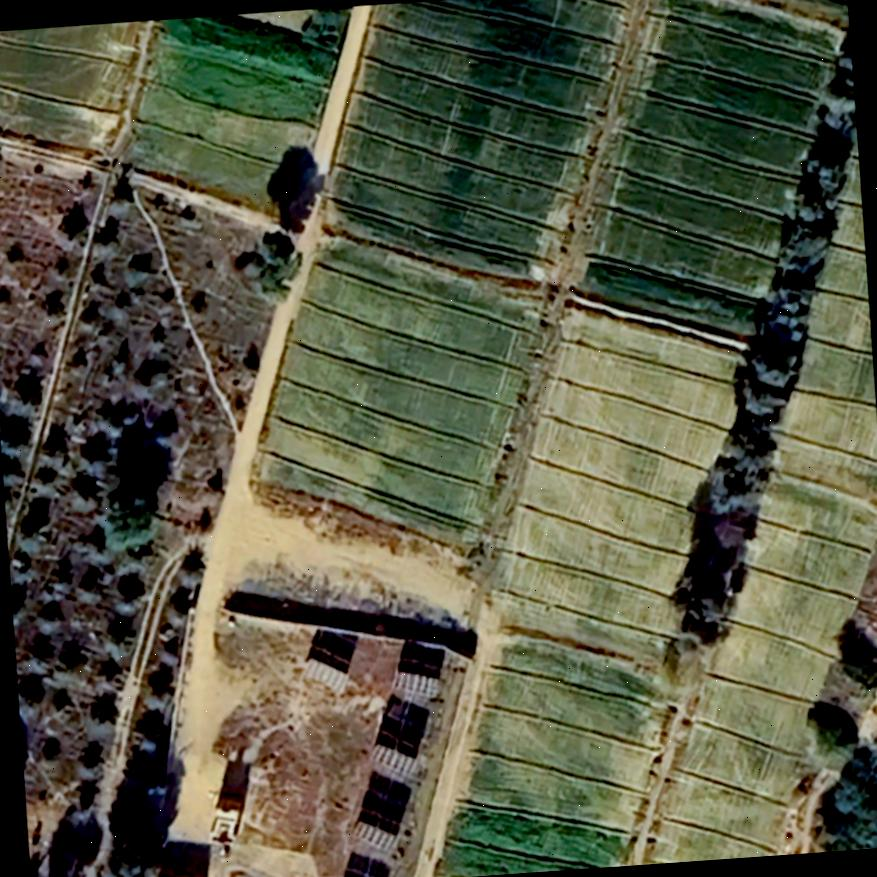Solarpanel: (297, 653, 351, 700), (363, 741, 422, 779), (348, 816, 402, 854), (386, 668, 443, 702)
